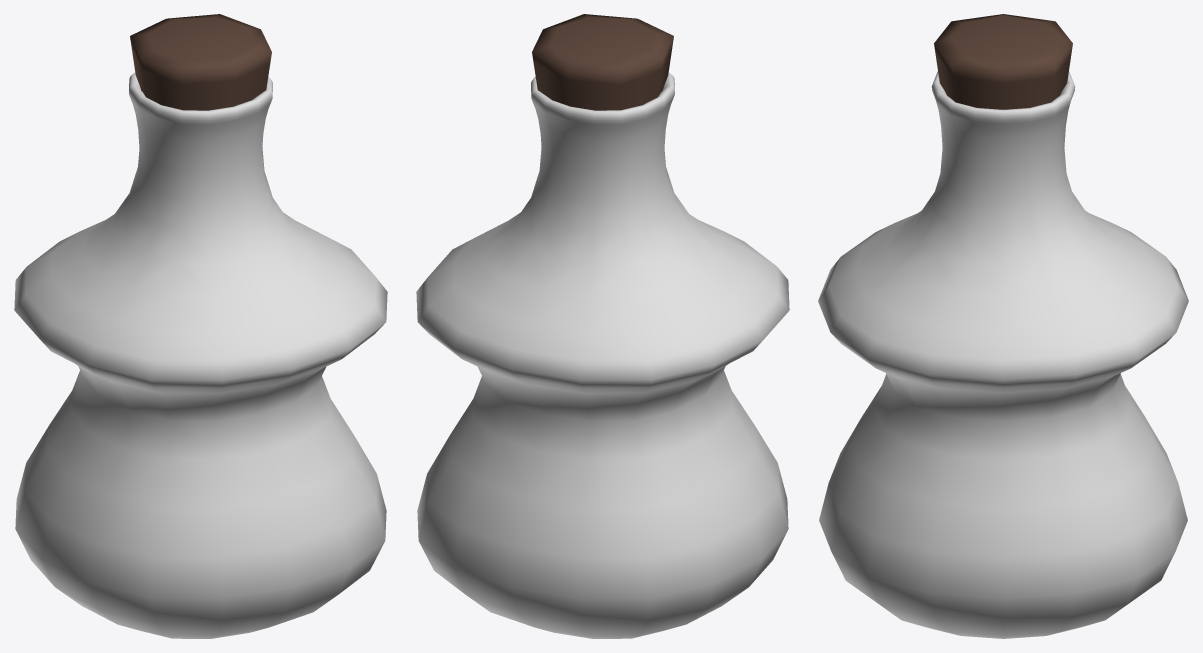
File: potion5_filled.glb
The picture shows the model from 3 angles, left to right: view 1: azimuth 30°, elevation 25°; view 2: azimuth 150°, elevation 25°; view 3: azimuth 270°, elevation 25°; orthographic projection.
Parts seen in each view (by area): view 1: Potion5_Filled; view 2: Potion5_Filled; view 3: Potion5_Filled.
Boxes of the visible parts, x1,y1,x2,y2 form: Potion5_Filled: (14,14,387,638); Potion5_Filled: (416,14,789,638); Potion5_Filled: (818,14,1188,638).
Size of the model in its own units: 0.7081 by 1.23 by 0.7081.
